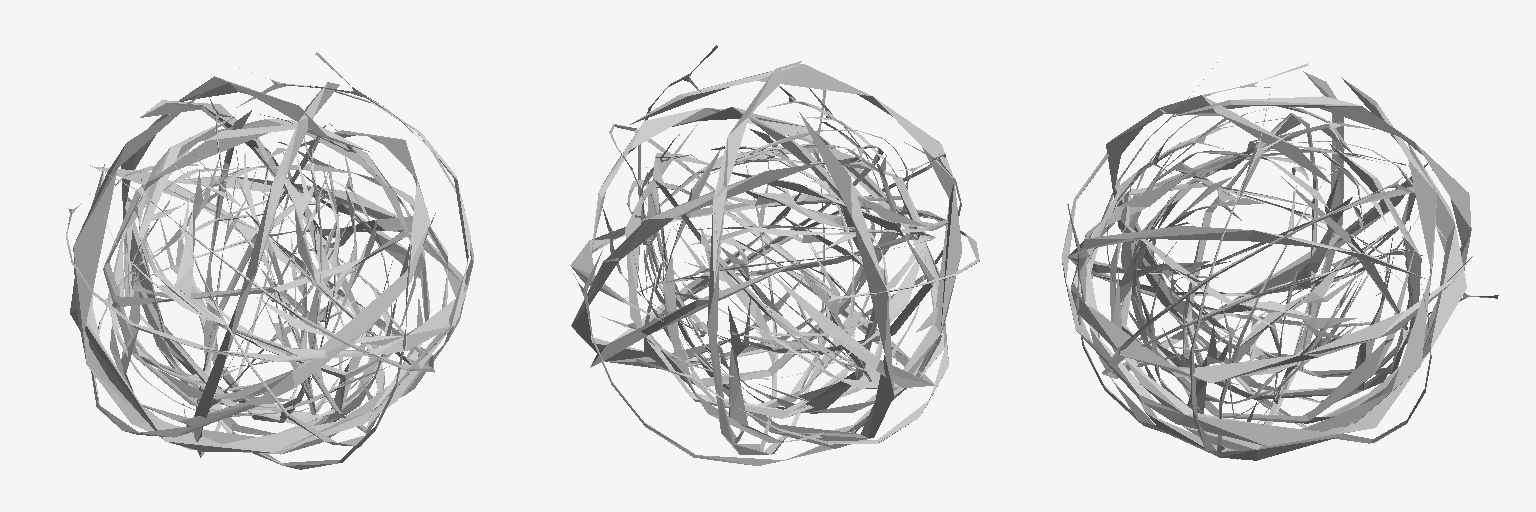
The model's file is tumble.obj.
3 renders of one model, left to right at view 1: azimuth 30°, elevation 25°; view 2: azimuth 150°, elevation 25°; view 3: azimuth 270°, elevation 25°, orthographic.
Parts seen in each view (by area): view 1: Plane.007_Plane.009; view 2: Plane.007_Plane.009; view 3: Plane.007_Plane.009.
Boxes of the visible parts, x1,y1,x2,y2 form: Plane.007_Plane.009: [66, 52, 473, 469]; Plane.007_Plane.009: [570, 45, 979, 465]; Plane.007_Plane.009: [1061, 62, 1498, 460].
Size of the model in its own units: 5.38 by 5.64 by 5.76.